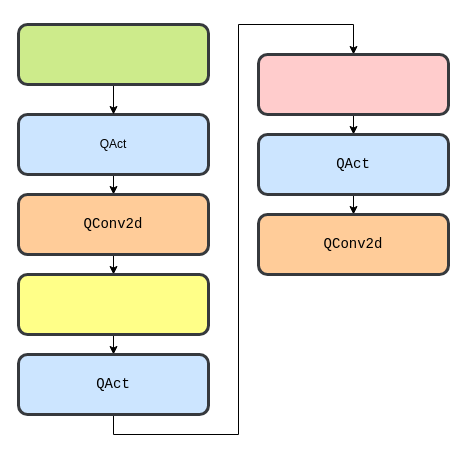
Image size: 467x460. Some labels were removed from this diagram. The shapes that lost their labels are listed below. From the top down, each one's centre as x and y in pixels, then its label:
At (113,54): "Tensor".
At (353,84): "QOlc".
At (113,304): "SiLU".
